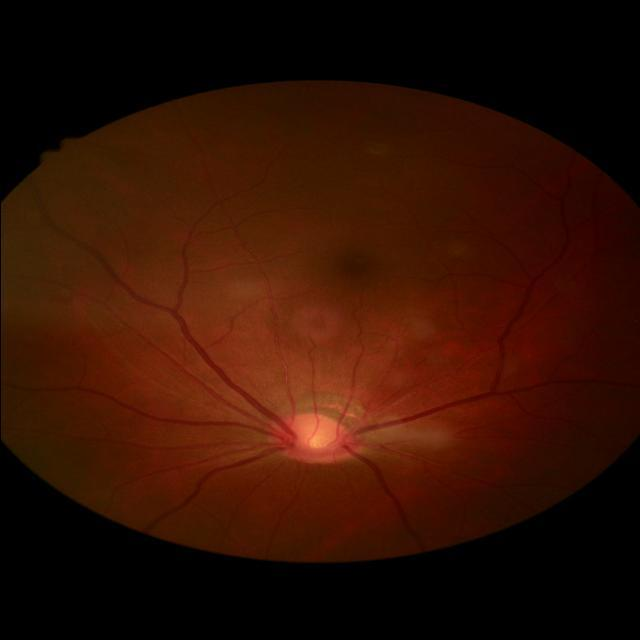cup: (294, 424, 338, 450)
disk: (268, 414, 356, 464)
